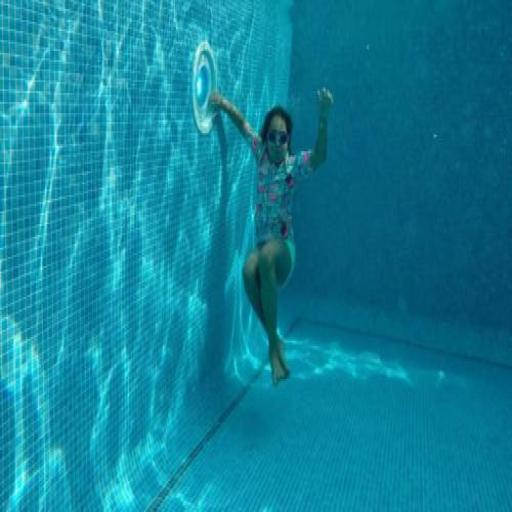swimming: (205, 82, 335, 388)
